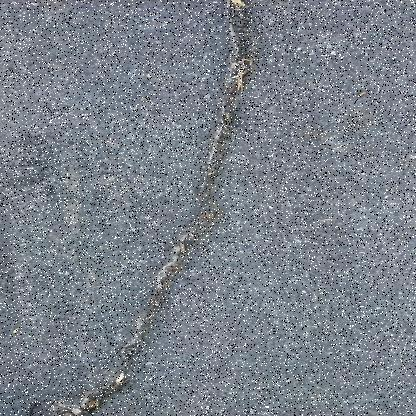Cracks: (38, 0, 262, 415)
